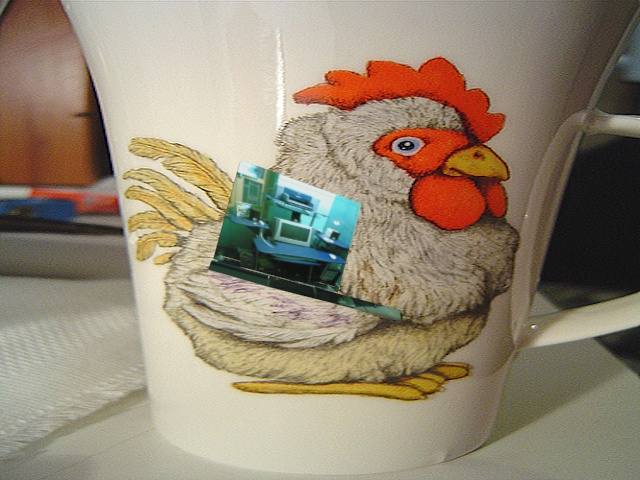laptop_computer: (208, 160, 416, 328)
